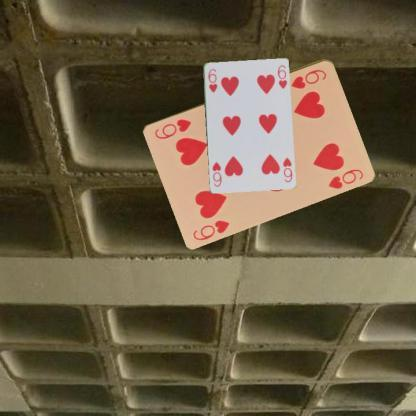6h: (190, 217, 231, 242), (288, 66, 328, 90), (280, 154, 294, 184), (206, 66, 218, 93)
